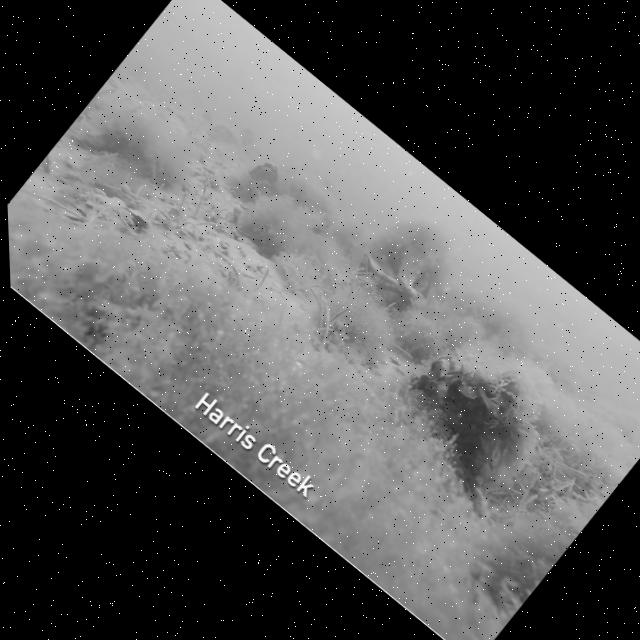Oyster-Closed: (395, 278, 423, 308), (477, 387, 499, 413)
Oyster-Indeterminate: (232, 163, 277, 201), (472, 461, 496, 485), (483, 416, 509, 438), (207, 125, 237, 144), (455, 438, 477, 463), (485, 438, 505, 464), (475, 432, 497, 454), (428, 358, 449, 379), (496, 392, 514, 415), (442, 404, 461, 424), (469, 451, 487, 470), (456, 382, 475, 399), (458, 417, 475, 431), (449, 419, 464, 434), (435, 381, 447, 398)
Oyster-Open: (356, 253, 423, 312)
